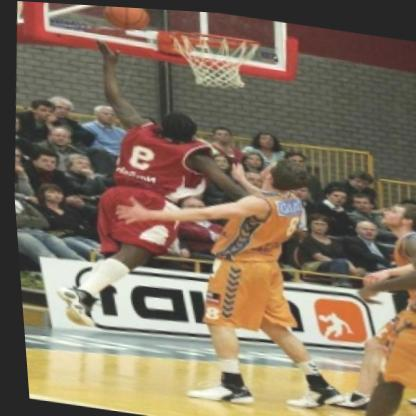basketball: (98, 5, 155, 34)
rim: (166, 23, 258, 91)
